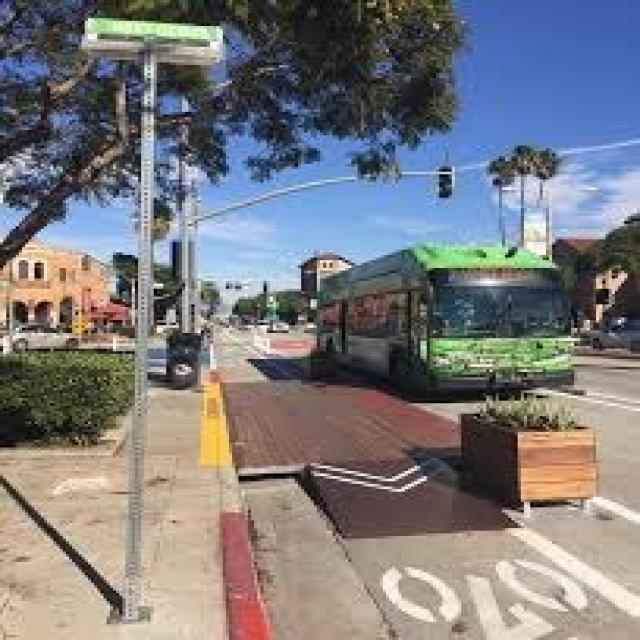bus: (310, 245, 580, 404)
